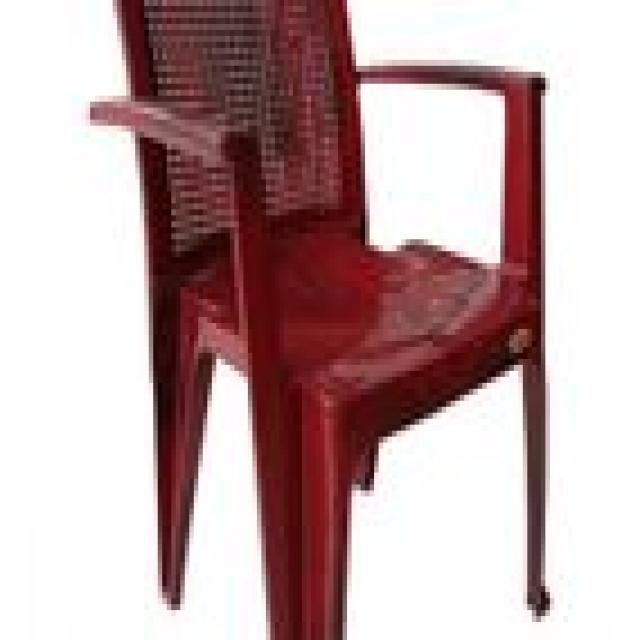others: (50, 6, 604, 634)
